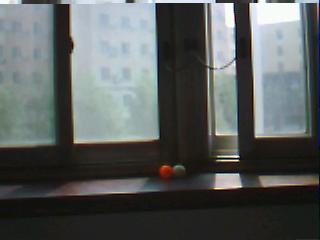oball: (158, 166, 172, 178)
